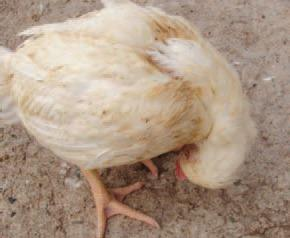AbNormal: (5, 4, 264, 235)
